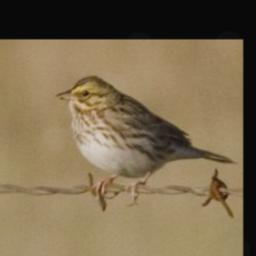Sparrow: (52, 70, 236, 205)
